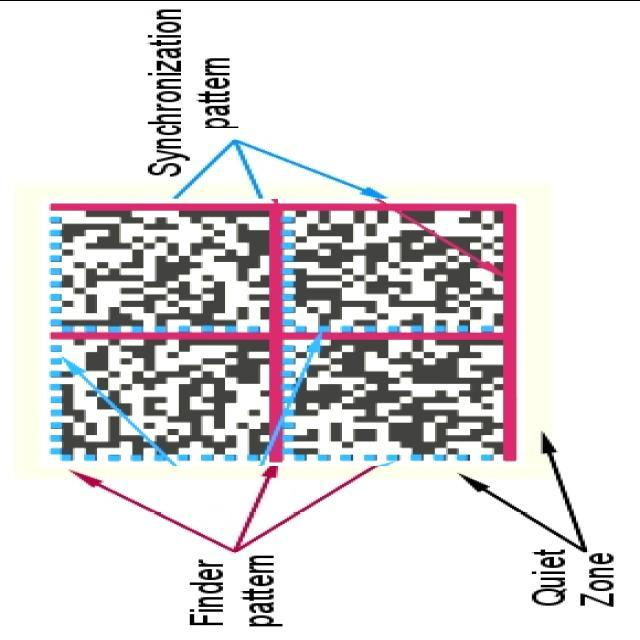Data-Matrix: (40, 197, 525, 465)
